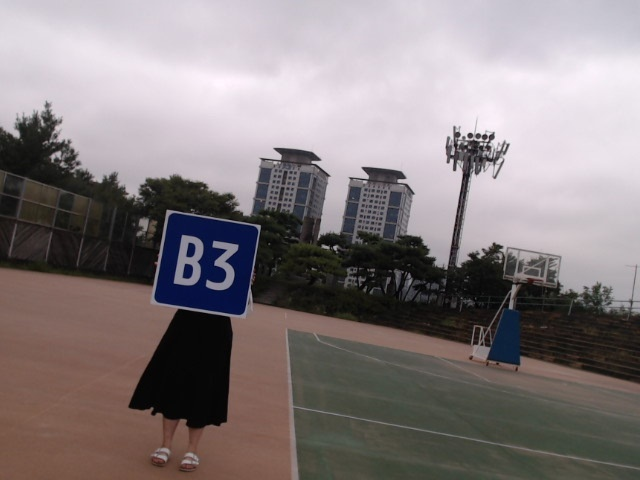delivery_b3: (153, 212, 261, 317)
